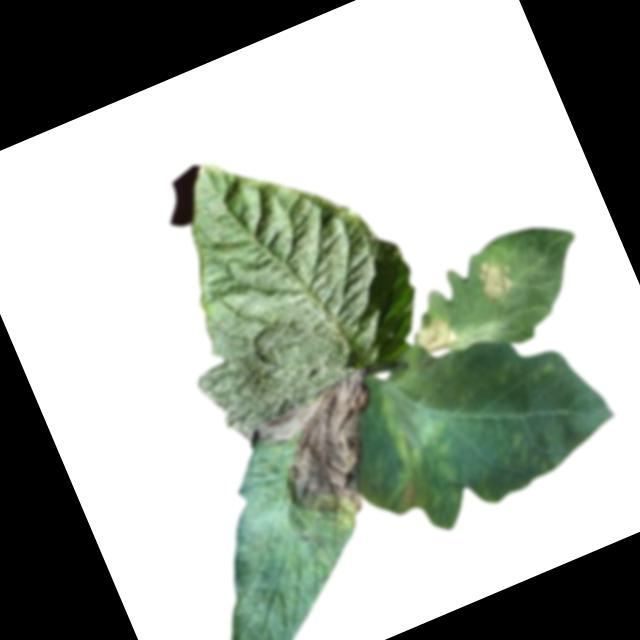Late_blight: (240, 369, 422, 562), (368, 356, 459, 464), (468, 250, 522, 310), (410, 311, 459, 358)
healthy: (118, 106, 444, 442)
